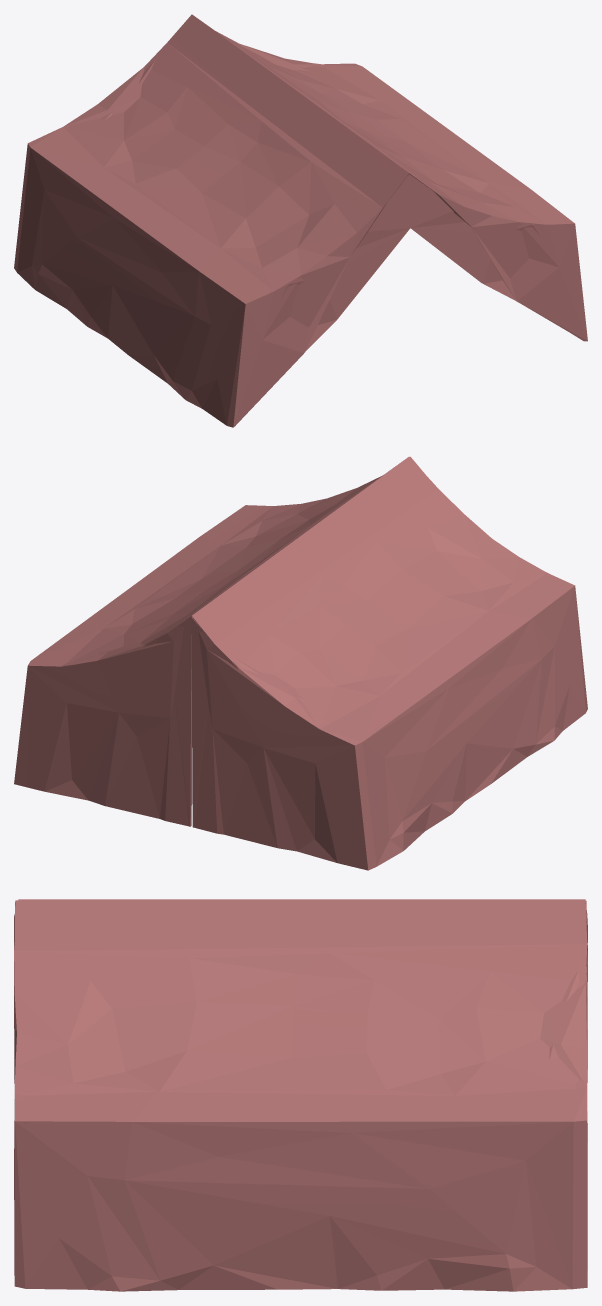
File: tent.glb
3 views of the same model, one above another, from view 1: azimuth 30°, elevation 25°; view 2: azimuth 150°, elevation 25°; view 3: azimuth 270°, elevation 25° (orthographic). The views are drawn at different scales.
Visible parts, largest first — view 1: Group14187; view 2: Group14187; view 3: Group14187.
Part boxes in pixels (x1=…): Group14187: x1=14, y1=14, x2=587, y2=427; Group14187: x1=14, y1=456, x2=587, y2=870; Group14187: x1=14, y1=899, x2=587, y2=1291.
Size of the model in its own units: 5.76 by 3.17 by 5.95.
